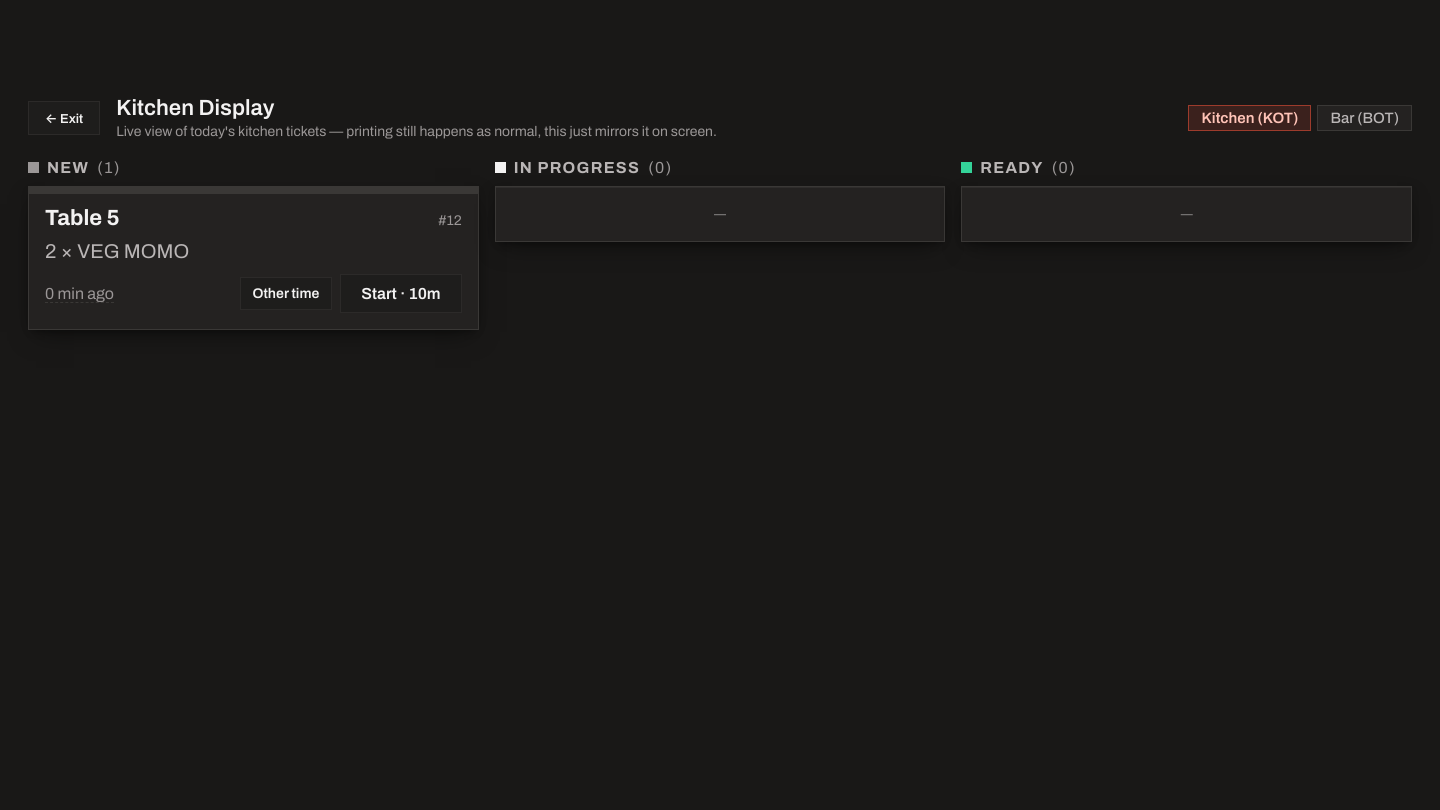
one-tap Start › Start · 10m starts the ticket at once with a 10-minute estimate, no popup
Click the button "Start · 10m": (401, 294) 340,274 -> 462,313
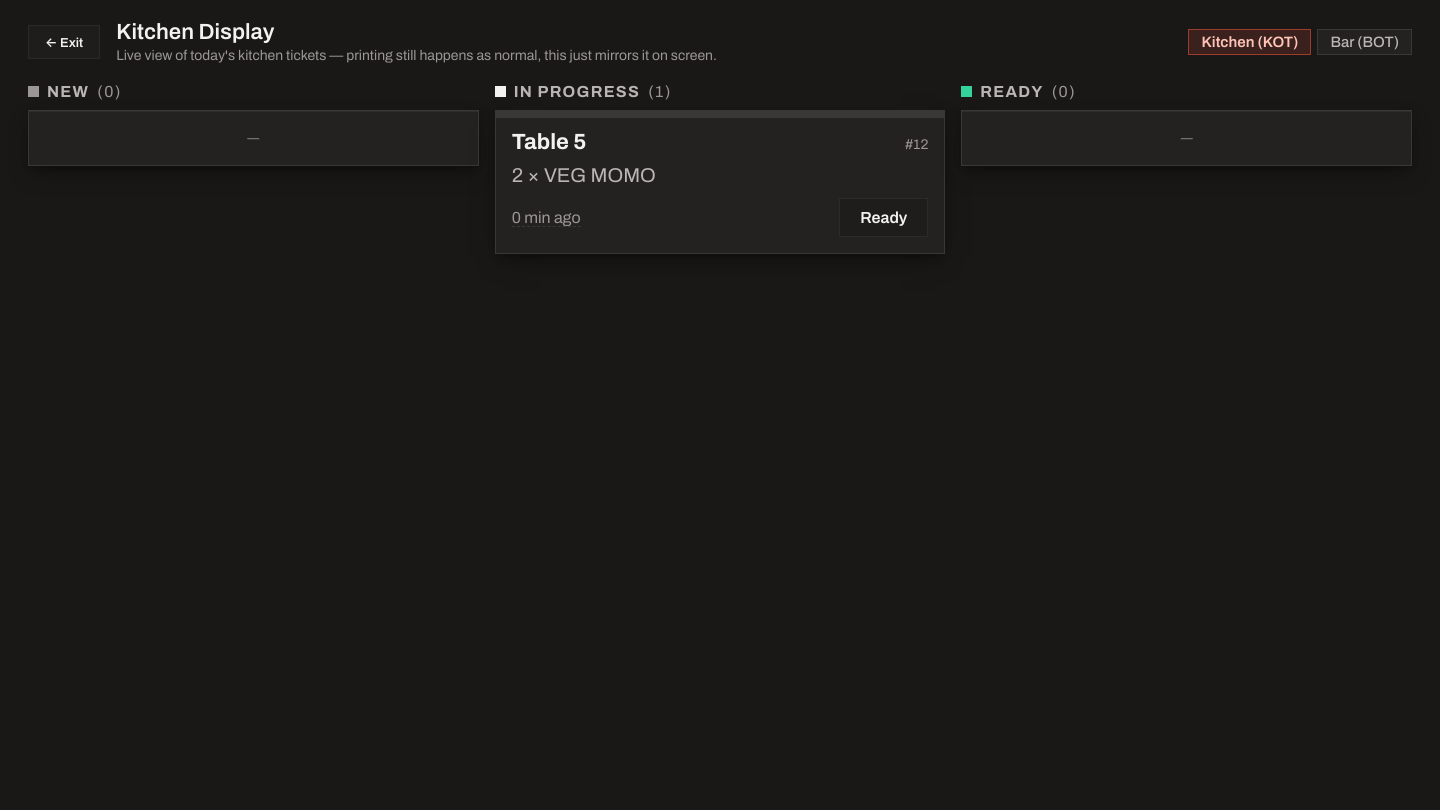
Expected: the button "Ready" is shown, 839,198 -> 928,237
